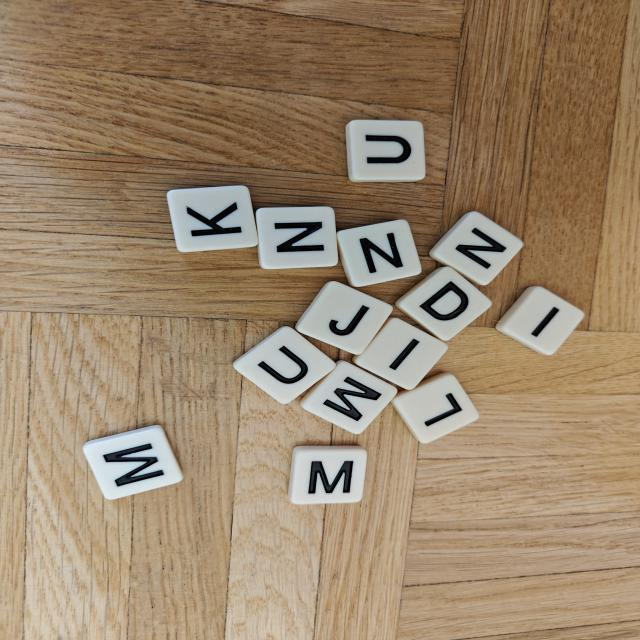d: (396, 267, 491, 340)
i: (353, 318, 448, 390), (496, 286, 584, 355)
j: (295, 281, 392, 354)
k: (167, 185, 258, 252)
l: (391, 374, 479, 443)
m: (83, 425, 182, 500), (300, 360, 397, 434), (289, 446, 368, 504), (343, 459, 343, 459)
n: (430, 211, 522, 285), (337, 220, 421, 287), (256, 207, 338, 269)
u: (233, 327, 336, 404), (345, 120, 425, 182)
